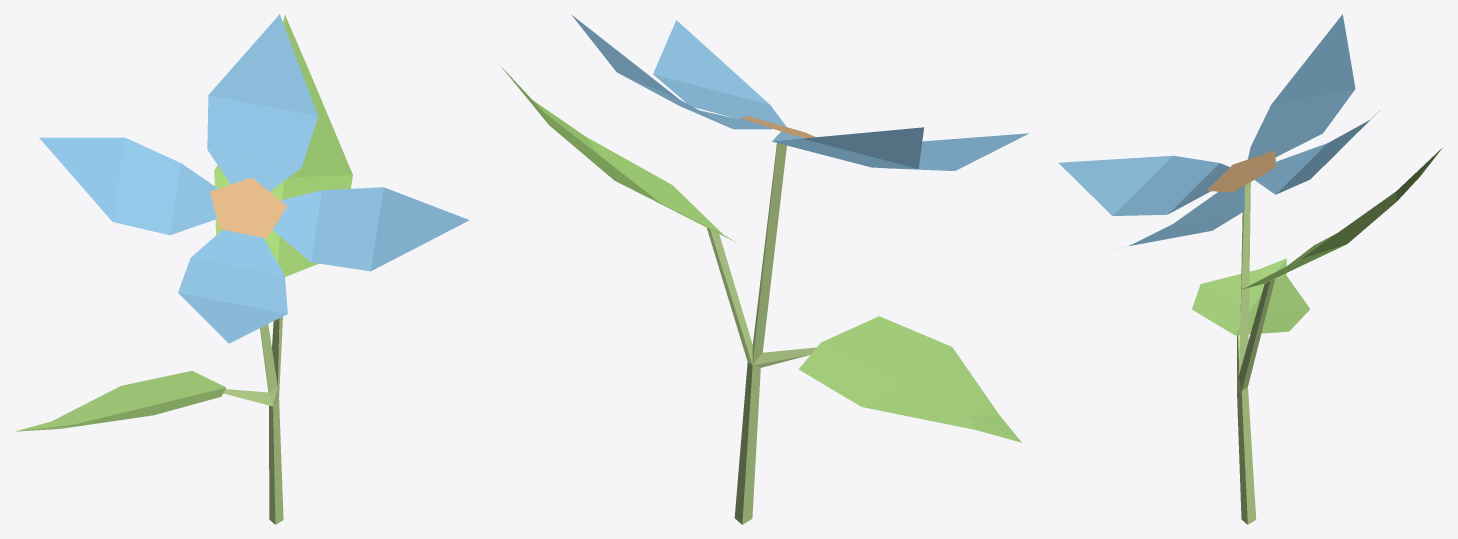
The model's file is Flower_a_OneS_10.fbx.
The picture shows the model from 3 angles, left to right: view 1: azimuth 30°, elevation 25°; view 2: azimuth 150°, elevation 25°; view 3: azimuth 270°, elevation 25°; orthographic projection. The views are drawn at different scales.
Parts seen in each view (by area): view 1: Flower_a_OneS_10; view 2: Flower_a_OneS_10; view 3: Flower_a_OneS_10.
Part boxes in pixels (bbox=[...]): Flower_a_OneS_10: bbox=[15, 14, 469, 524]; Flower_a_OneS_10: bbox=[499, 14, 1028, 524]; Flower_a_OneS_10: bbox=[1058, 14, 1442, 524].
Bounding box in the file's own units: 56.34 × 64.59 × 49.53.
